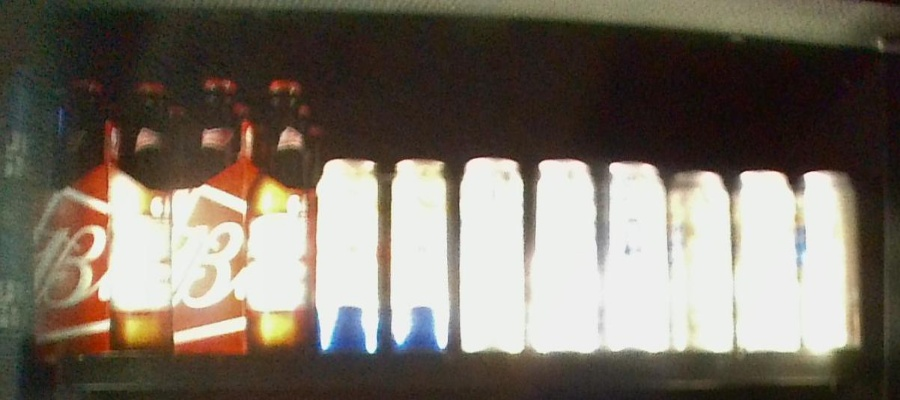bottle: (460, 158, 667, 359), (172, 78, 314, 354), (668, 163, 860, 359), (43, 75, 173, 350), (314, 155, 453, 353)
